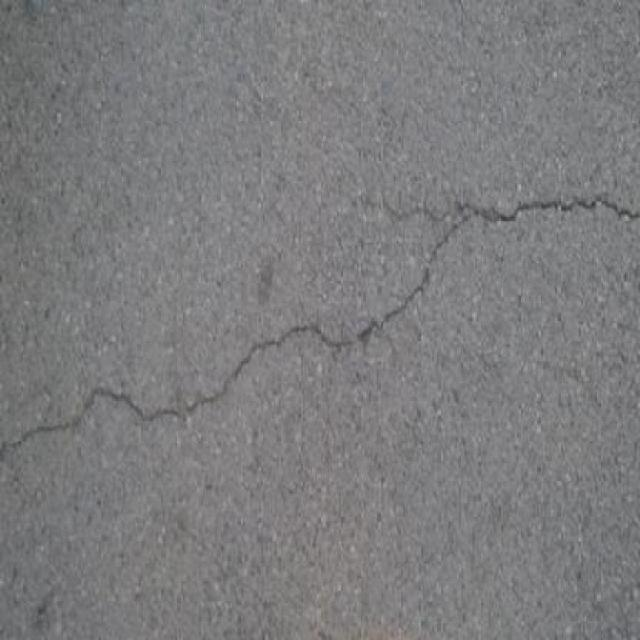GRIETA: (0, 196, 639, 456)
